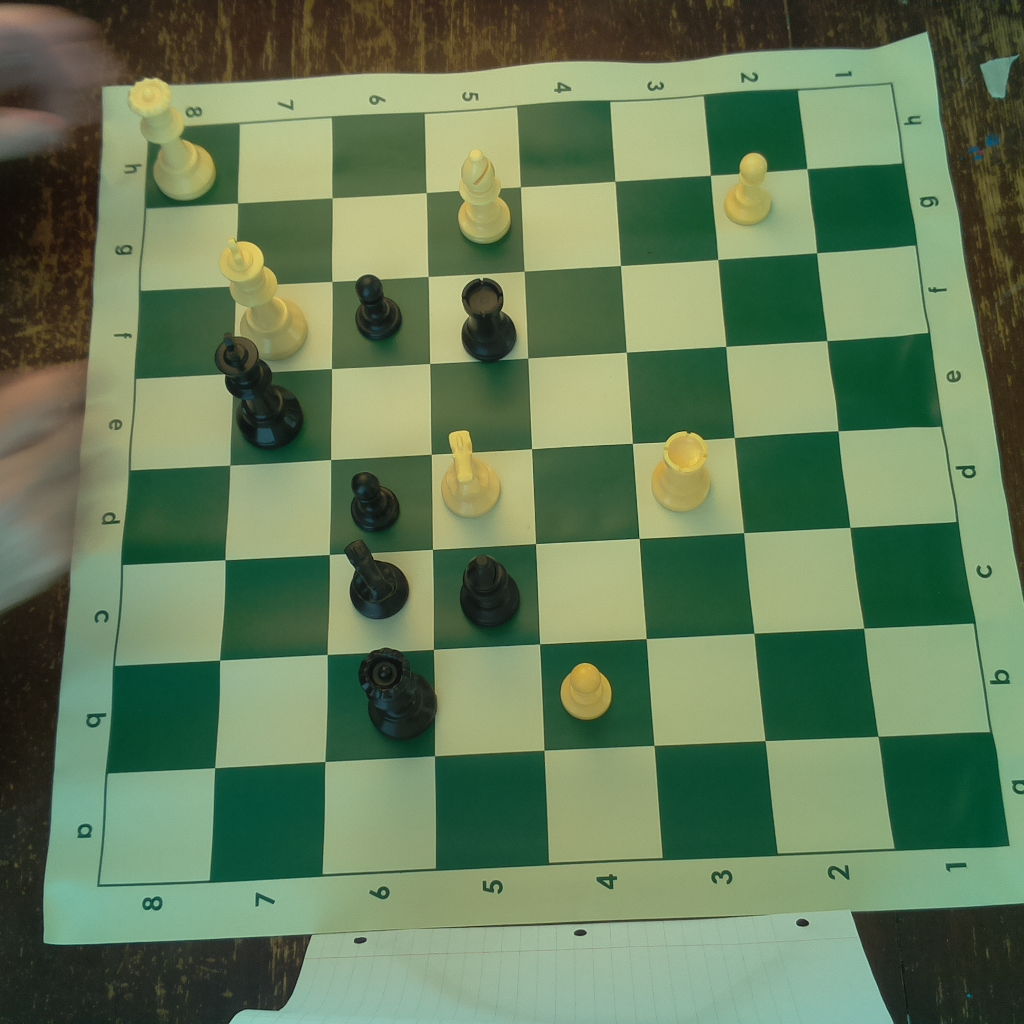black_bishop: (455, 548, 525, 630)
black_king: (211, 335, 308, 454)
black_knight: (334, 539, 412, 619)
black_pawn: (345, 273, 410, 347), (344, 466, 405, 535)
black_queen: (358, 643, 441, 744)
black_rook: (454, 275, 523, 365)
file_a: (96, 731, 1010, 890)
file_b: (107, 623, 993, 773)
file_c: (114, 521, 976, 666)
file_d: (120, 426, 957, 565)
file_e: (129, 334, 941, 470)
file_f: (134, 244, 929, 378)
file_g: (140, 164, 914, 291)
file_h: (144, 86, 905, 212)
outline: (96, 86, 1007, 888)
rank_1: (798, 84, 1011, 852)
rank_2: (706, 90, 894, 856)
rank_3: (608, 96, 779, 858)
rank_4: (519, 100, 666, 865)
rank_5: (424, 108, 550, 871)
rank_6: (319, 113, 440, 874)
rank_7: (210, 118, 333, 882)
rank_8: (96, 121, 242, 887)
white_bishop: (454, 148, 515, 245)
white_king: (215, 232, 310, 357)
white_knight: (432, 423, 505, 519)
white_pawn: (724, 149, 779, 231), (558, 653, 618, 721)
white_queen: (120, 73, 220, 204)
white_rook: (647, 427, 715, 510)
